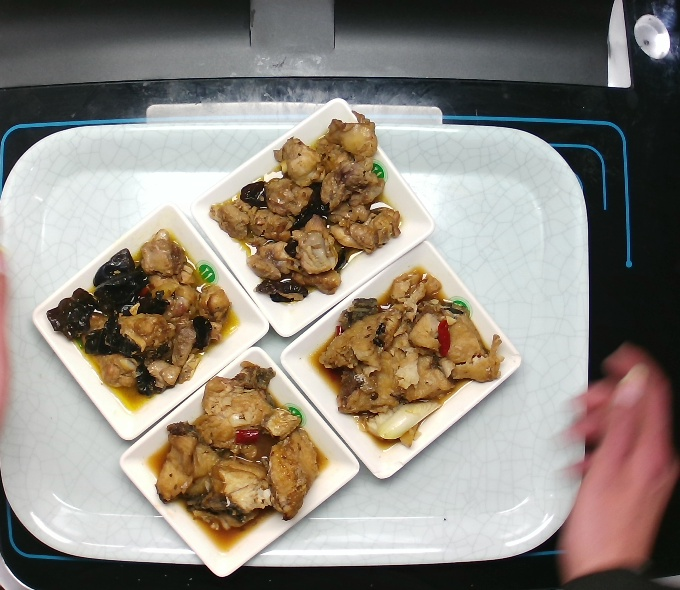wcq-MuErRouKuai: (202, 107, 409, 311), (43, 224, 236, 402)
wcq-YuKuai: (313, 267, 508, 452), (149, 357, 323, 537)
